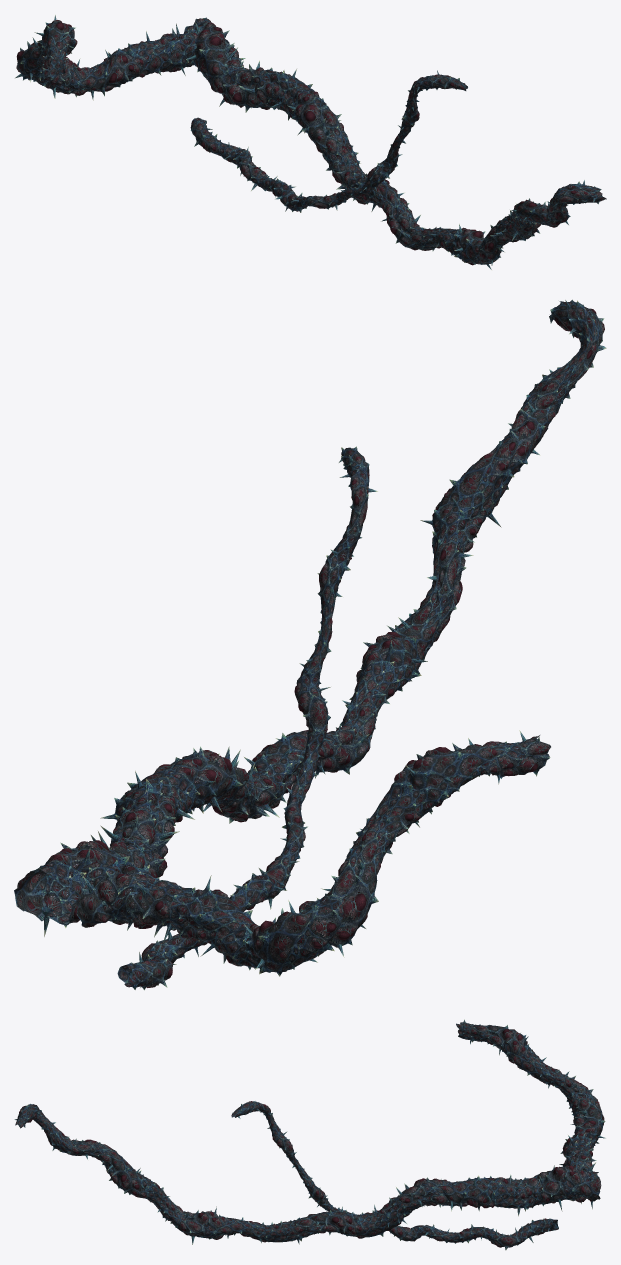
File: backup.fbx
3 views of the same model, one above another, from view 1: azimuth 30°, elevation 25°; view 2: azimuth 150°, elevation 25°; view 3: azimuth 270°, elevation 25° (orthographic). The views are drawn at different scales.
Visible parts, largest first — view 1: LODGroup_1_MainMesh_1_SubMesh_2, LODGroup_1_MainMesh_1_SubMesh_3, LODGroup_1_MainMesh_1_SubMesh_1; view 2: LODGroup_1_MainMesh_1_SubMesh_2, LODGroup_1_MainMesh_1_SubMesh_3, LODGroup_1_MainMesh_1_SubMesh_1; view 3: LODGroup_1_MainMesh_1_SubMesh_2, LODGroup_1_MainMesh_1_SubMesh_3, LODGroup_1_MainMesh_1_SubMesh_1.
Part boxes in pixels (x1,y1,x2,y2): LODGroup_1_MainMesh_1_SubMesh_2: (15,15,604,269); LODGroup_1_MainMesh_1_SubMesh_3: (17,22,606,265); LODGroup_1_MainMesh_1_SubMesh_1: (190,70,467,212); LODGroup_1_MainMesh_1_SubMesh_2: (14,300,606,969); LODGroup_1_MainMesh_1_SubMesh_3: (34,299,604,976); LODGroup_1_MainMesh_1_SubMesh_1: (117,446,377,990); LODGroup_1_MainMesh_1_SubMesh_2: (14,1019,605,1244); LODGroup_1_MainMesh_1_SubMesh_3: (15,1023,605,1242); LODGroup_1_MainMesh_1_SubMesh_1: (231,1101,558,1250).
Size of the model in its own units: 2187 by 1492 by 4950.
